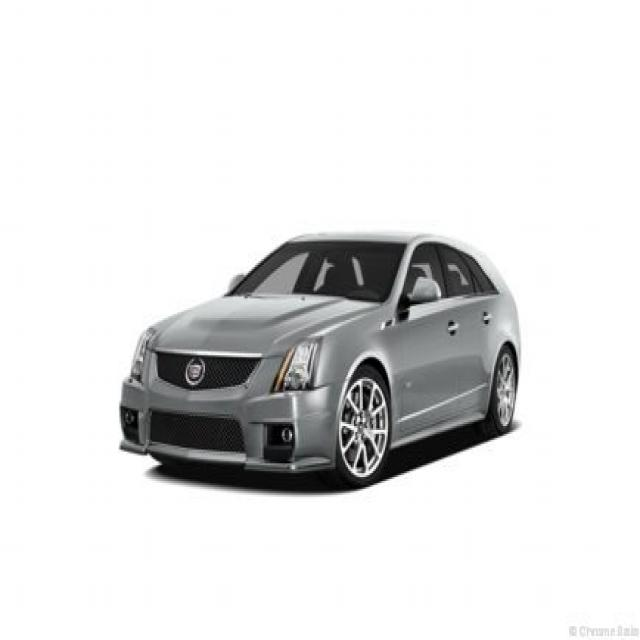car: (96, 220, 540, 491)
